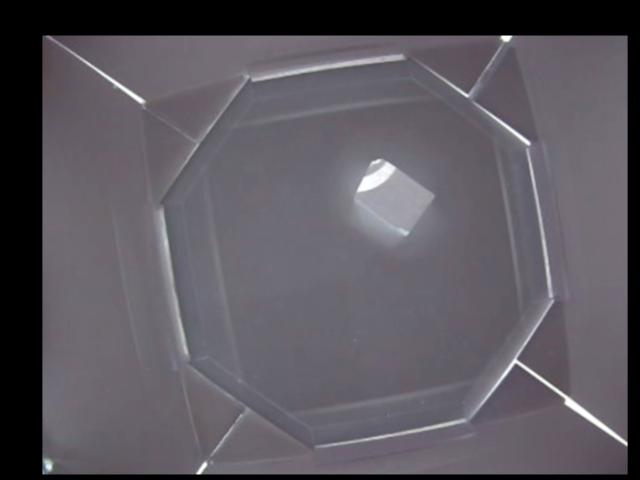China: (356, 158, 433, 235)
